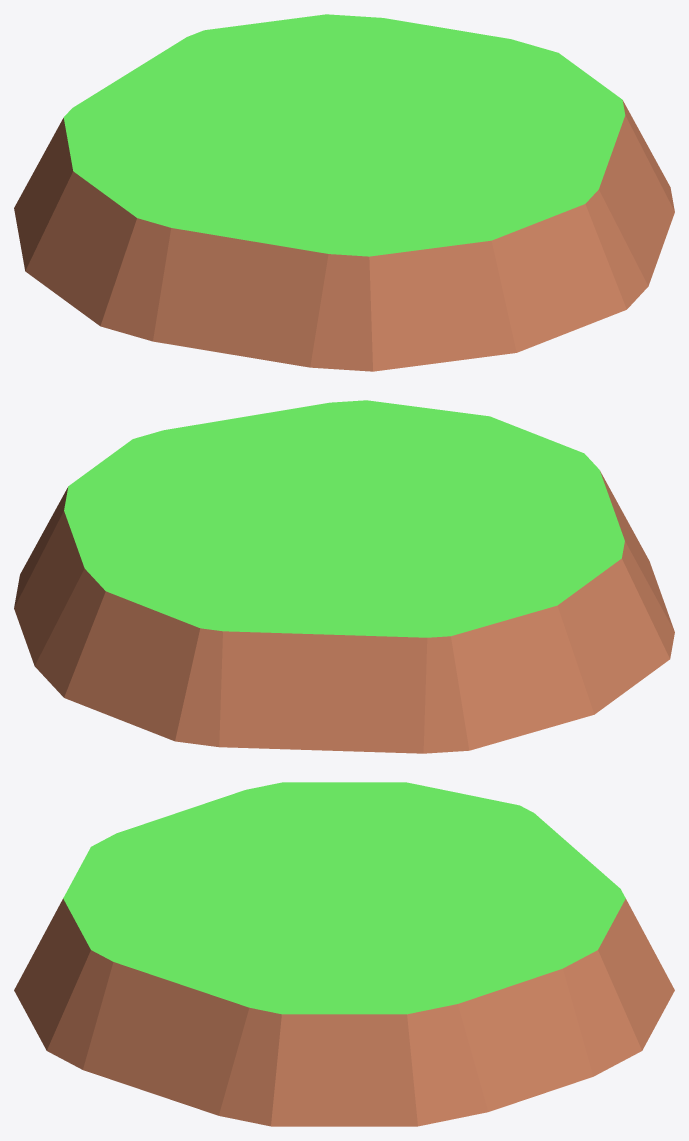
File: Rock003.fbx
3 views of the same model, one above another, from view 1: azimuth 30°, elevation 25°; view 2: azimuth 150°, elevation 25°; view 3: azimuth 270°, elevation 25° (orthographic). The views are drawn at different scales.
Parts seen in each view (by area): view 1: Rock003; view 2: Rock003; view 3: Rock003.
Part boxes in pixels (x1=…): Rock003: x1=14, y1=14, x2=674, y2=371; Rock003: x1=14, y1=400, x2=674, y2=753; Rock003: x1=14, y1=782, x2=674, y2=1126.
Bounding box in the file's own units: 108 × 17.06 × 111.
